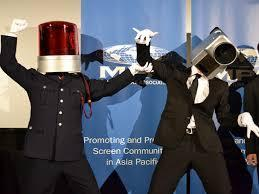no more kid: (194, 26, 241, 80)
